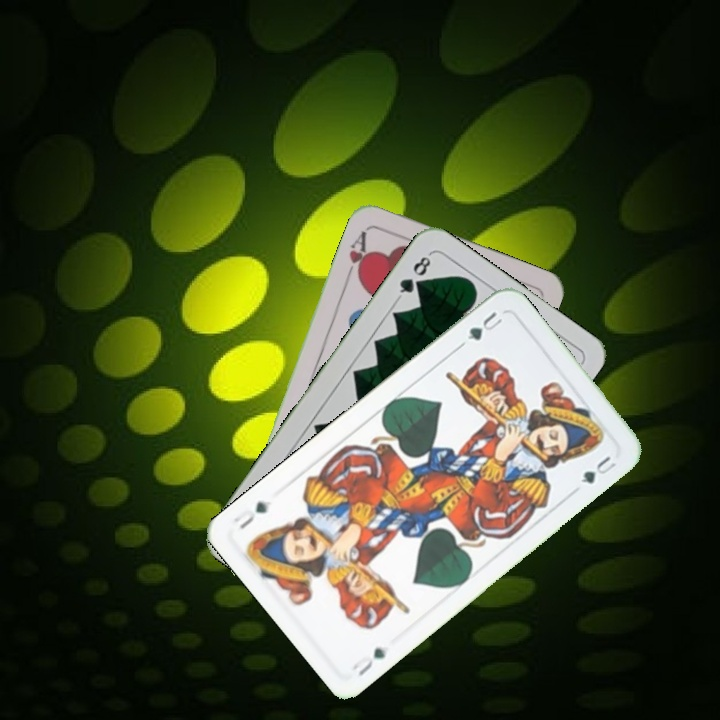G8: (394, 250, 434, 301)
GU: (348, 641, 392, 679), (463, 307, 505, 343)
HA: (342, 227, 372, 284)
